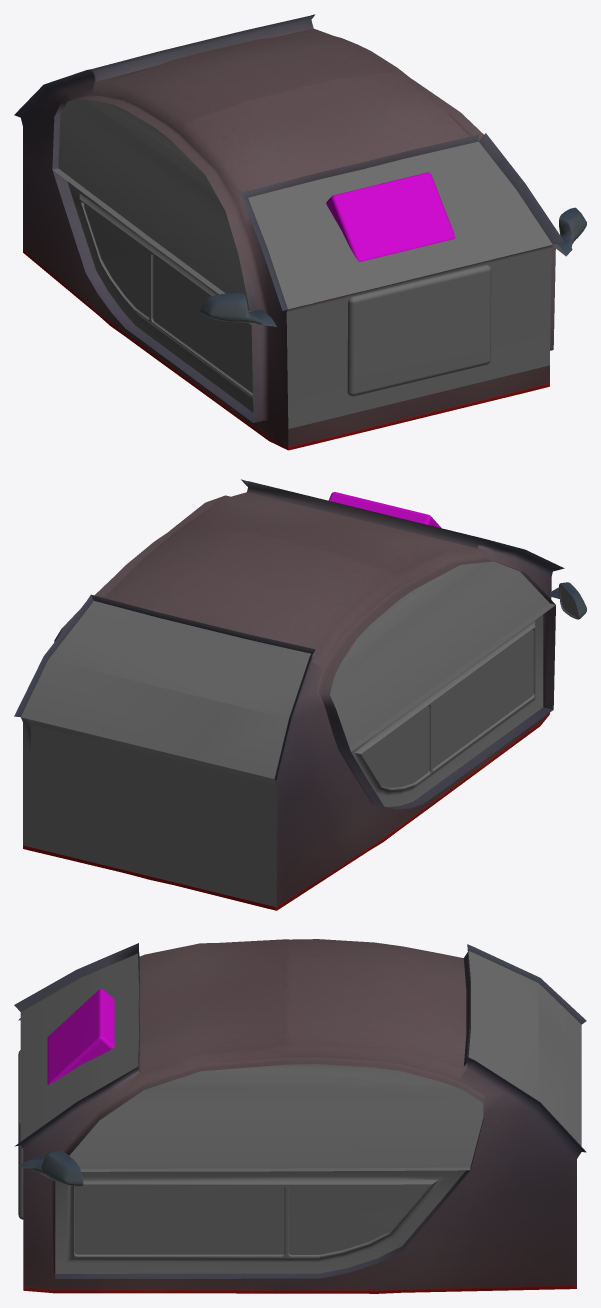
Rendered from bmw_interior.FBX.
The picture shows the model from 3 angles, top to bottom: view 1: azimuth 30°, elevation 25°; view 2: azimuth 150°, elevation 25°; view 3: azimuth 270°, elevation 25°; orthographic projection. The views are drawn at different scales.
Parts seen in each view (by area): view 1: interior, videoscreen_360_right, window_screen_front, window_right, main_display2, videoscreen_360_left, front_glass_display; view 2: interior, videoscreen_360_right, window_screen_back, window_right, videoscreen_360_left, front_glass_display; view 3: interior, videoscreen_360_left, window_left, window_screen_back, window_screen_front, front_glass_display, main_display2.
Part boxes in pixels (<box>): interior: <box>14,14,586,450</box>; videoscreen_360_right: <box>53,168,420,428</box>; window_screen_front: <box>248,141,552,309</box>; window_right: <box>58,99,249,310</box>; main_display2: <box>347,265,491,396</box>; videoscreen_360_left: <box>419,245,552,396</box>; front_glass_display: <box>326,172,454,261</box>; interior: <box>14,479,586,910</box>; videoscreen_360_right: <box>148,603,555,907</box>; window_screen_back: <box>21,601,310,778</box>; window_right: <box>330,561,549,747</box>; videoscreen_360_left: <box>21,717,149,876</box>; front_glass_display: <box>328,492,441,528</box>; interior: <box>14,939,586,1293</box>; videoscreen_360_left: <box>55,1167,470,1273</box>; window_left: <box>69,1061,483,1168</box>; window_screen_back: <box>468,951,581,1146</box>; window_screen_front: <box>20,953,138,1141</box>; front_glass_display: <box>47,989,114,1084</box>; main_display2: <box>18,1050,23,1219</box>.
Size of the model in its own units: 2.24 by 1.32 by 2.84.
7 materials, 2 textured.
